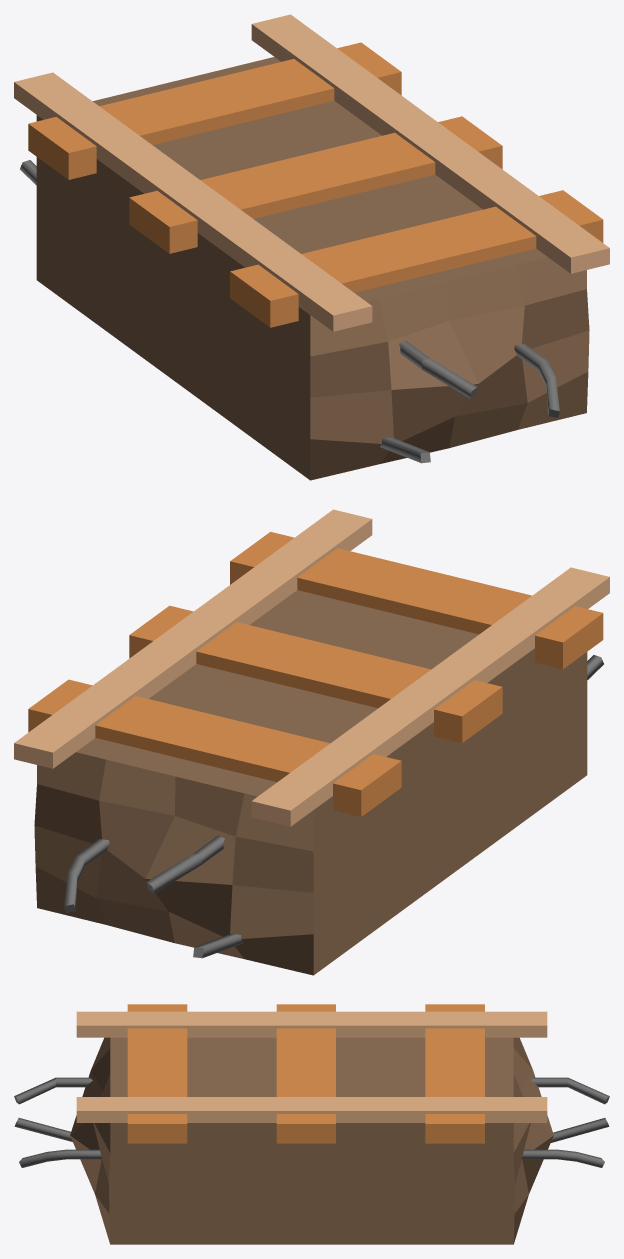
The model's file is BrokenTrack 4.fbx.
The picture shows the model from 3 angles, top to bottom: view 1: azimuth 30°, elevation 25°; view 2: azimuth 150°, elevation 25°; view 3: azimuth 270°, elevation 25°; orthographic projection. The views are drawn at different scales.
Parts seen in each view (by area): view 1: Broken Track 4, TrackPlys1.003, Tracks1.003, MetalBars.003; view 2: Broken Track 4, TrackPlys1.003, Tracks1.003, MetalBars.003; view 3: Broken Track 4, Tracks1.003, TrackPlys1.003, MetalBars.003.
Part boxes in pixels (<box>): Broken Track 4: <box>36,57,589,480</box>; TrackPlys1.003: <box>28,42,603,327</box>; Tracks1.003: <box>14,14,609,331</box>; MetalBars.003: <box>20,160,559,463</box>; Broken Track 4: <box>34,590,587,975</box>; TrackPlys1.003: <box>28,531,603,816</box>; Tracks1.003: <box>14,509,609,826</box>; MetalBars.003: <box>64,655,603,958</box>; Broken Track 4: <box>70,1037,553,1244</box>; Tracks1.003: <box>76,1011,547,1122</box>; TrackPlys1.003: <box>127,1004,484,1143</box>; MetalBars.003: <box>14,1077,609,1167</box>.
Size of the model in its own units: 169 by 88.34 by 354.
